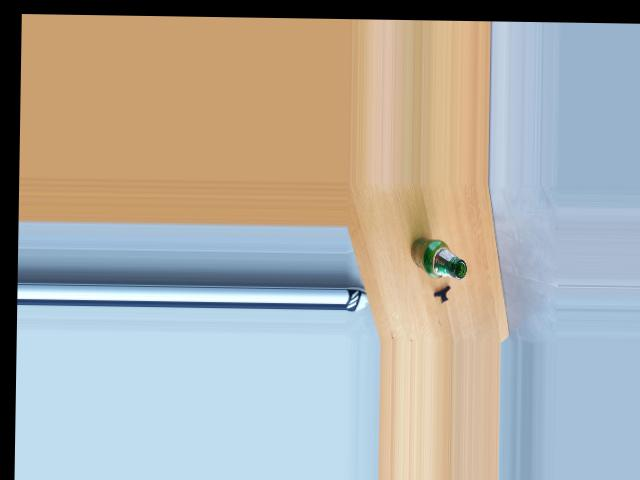beer: (409, 236, 466, 279)
